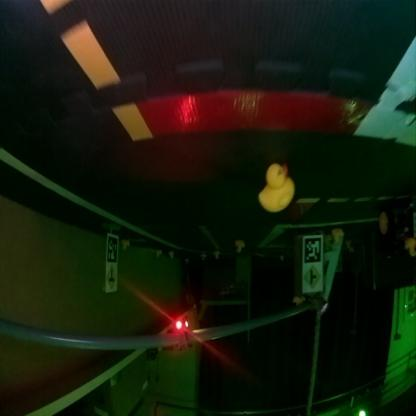Duckie: (258, 166, 294, 214), (405, 240, 414, 256), (331, 230, 343, 242), (234, 240, 244, 252), (121, 242, 129, 249), (200, 254, 206, 261), (214, 252, 219, 258)
Intersection sign: (304, 266, 320, 291), (106, 266, 116, 290)
QR code: (304, 238, 322, 262), (105, 235, 117, 262)
Traffic light: (172, 316, 188, 346)
